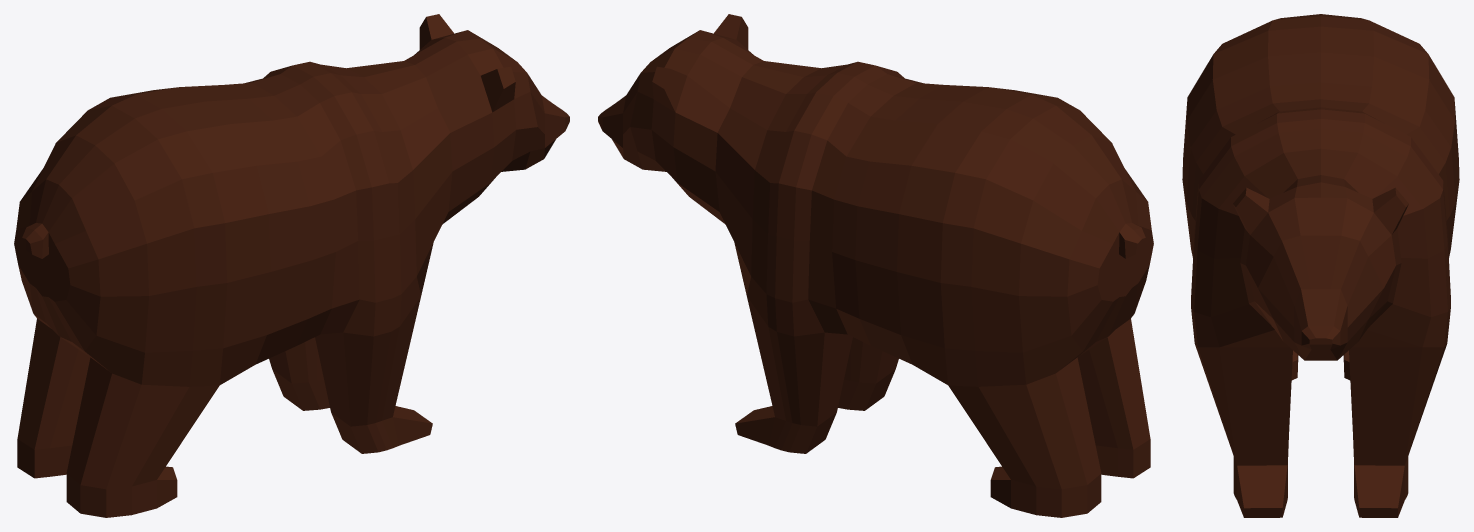
File: bear.fbx
3 views of the same model, side by side, from view 1: azimuth 30°, elevation 25°; view 2: azimuth 150°, elevation 25°; view 3: azimuth 270°, elevation 25° (orthographic). The views are drawn at different scales.
Parts seen in each view (by area): view 1: Plane.003; view 2: Plane.003; view 3: Plane.003.
Part boxes in pixels (bbox=[...]): Plane.003: bbox=[14, 14, 569, 517]; Plane.003: bbox=[598, 14, 1153, 517]; Plane.003: bbox=[1182, 14, 1459, 517].
Bounding box in the file's own units: 1098 × 693 × 467.
